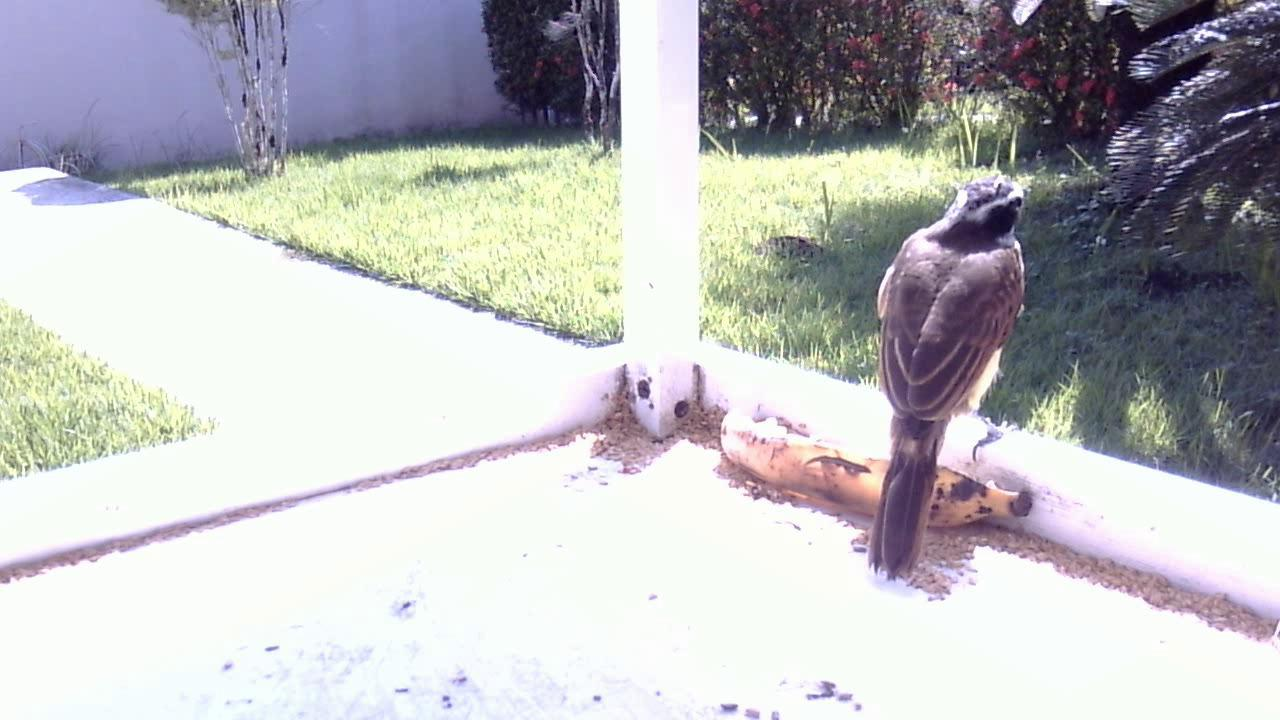bem_te_vi: (861, 180, 1038, 588)
